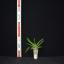leaf: (27, 38, 35, 46), (36, 39, 44, 47), (25, 47, 35, 53), (36, 41, 44, 48), (26, 44, 35, 48), (36, 46, 43, 49), (34, 38, 36, 46), (30, 48, 35, 50)
